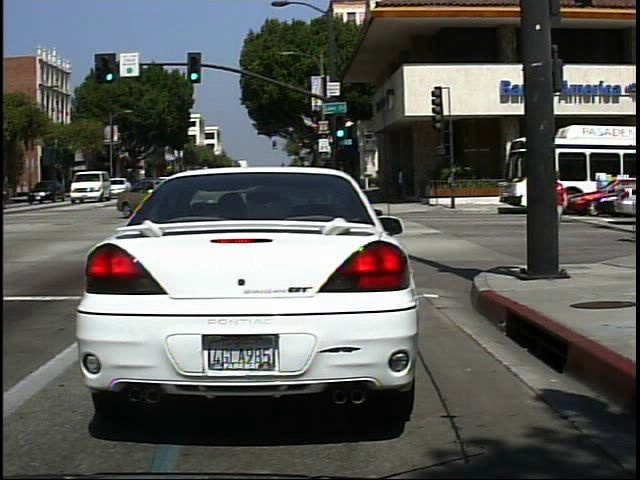person: (549, 168, 571, 245)
